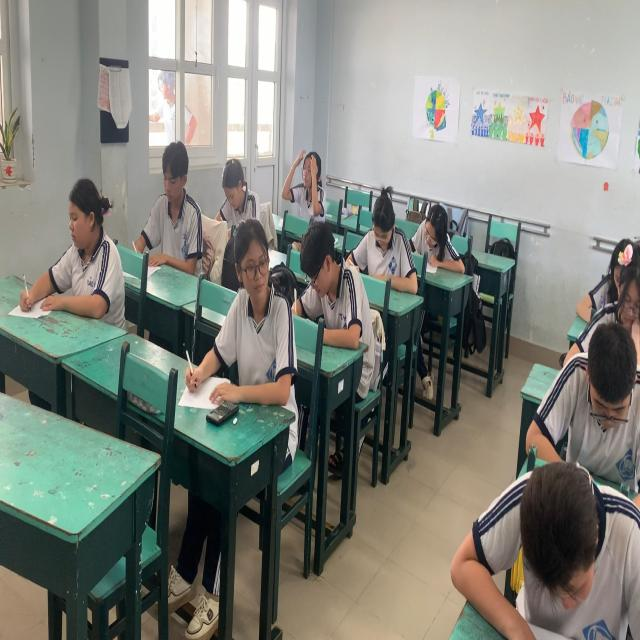cheating: (218, 228, 296, 415)
not_cheating: (497, 443, 628, 635), (546, 323, 640, 477), (42, 171, 122, 332), (292, 222, 369, 358), (147, 136, 206, 284), (361, 179, 416, 295), (584, 236, 640, 342), (218, 144, 268, 235), (414, 194, 456, 274), (289, 136, 324, 222)
